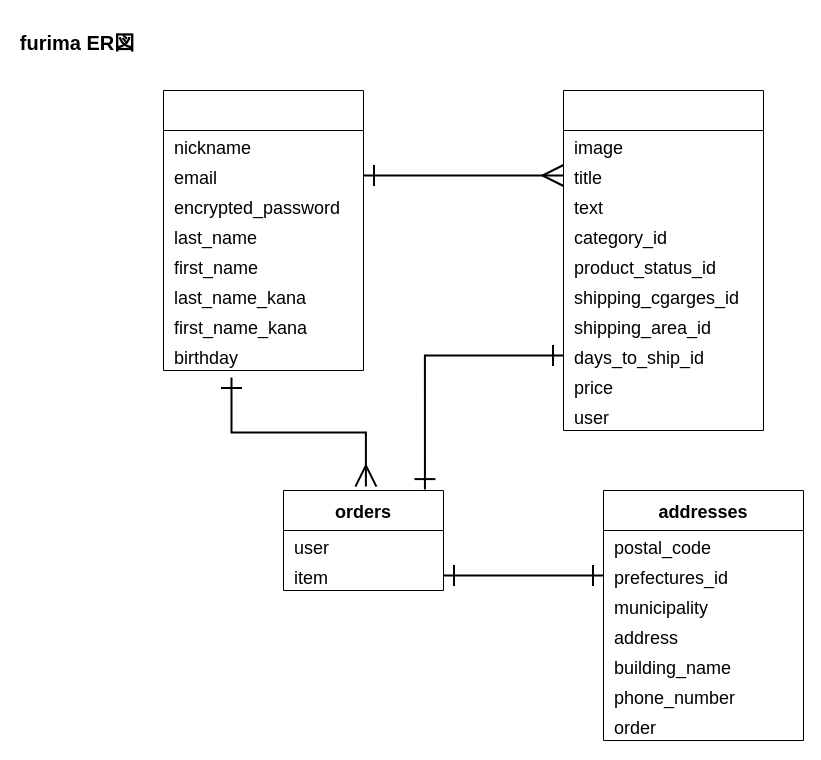
The diagram is 821 pixels wide and 760 high, and some of its shapes have lost their labels. The box of each missing label's shape, as (x1, y1, x2, y2) in pixels:
items: (562, 90, 764, 430)
users: (162, 90, 364, 370)
